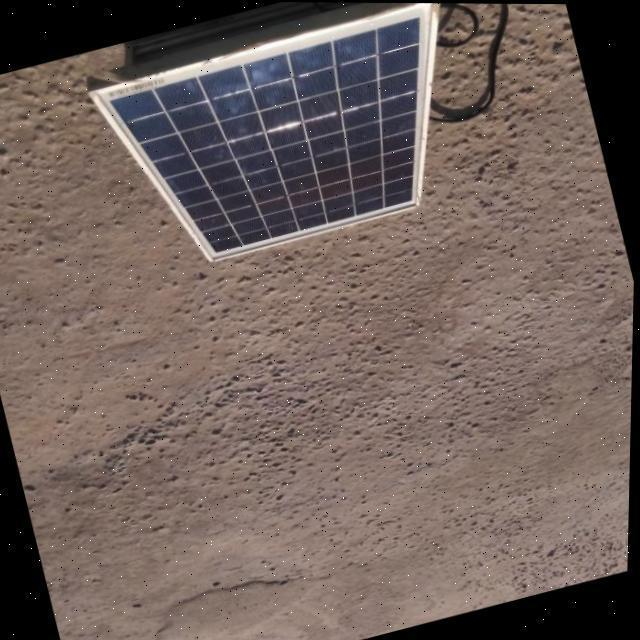Normal Solar Panel: (86, 1, 488, 282)
